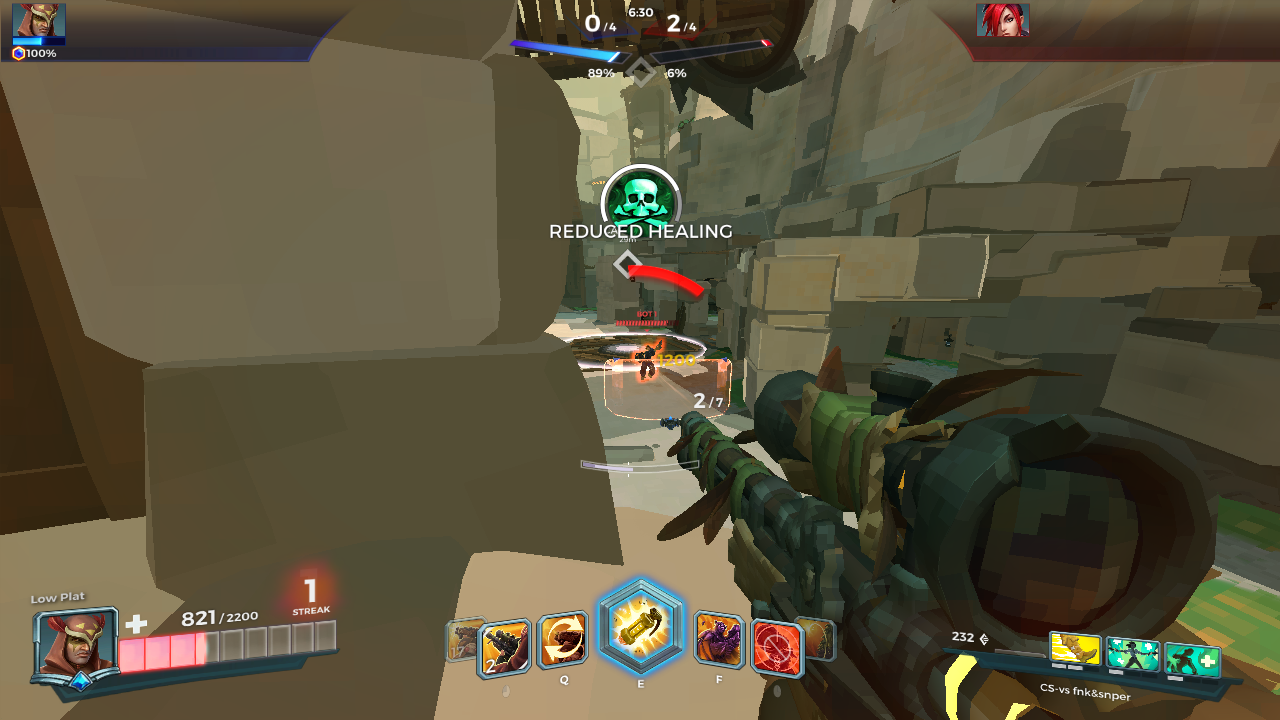model: (630, 334, 664, 388)
